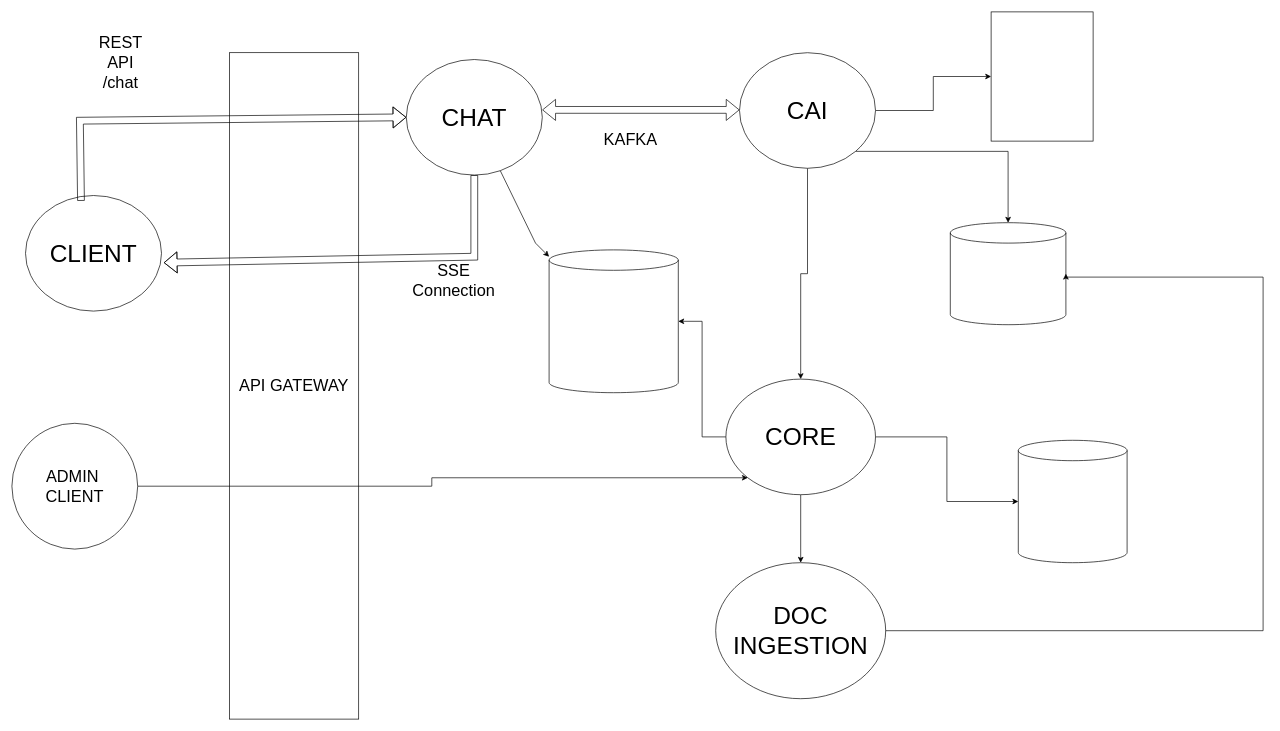
Some shapes in this 1280 by 731 pixel diagram are drawn without their labels. Each missing label, with the centre of its shape:
LLM: [1041,76]
MONGO: [613,321]
S3: [1072,501]
VECTOR DB (PINECONE): [1008,273]
